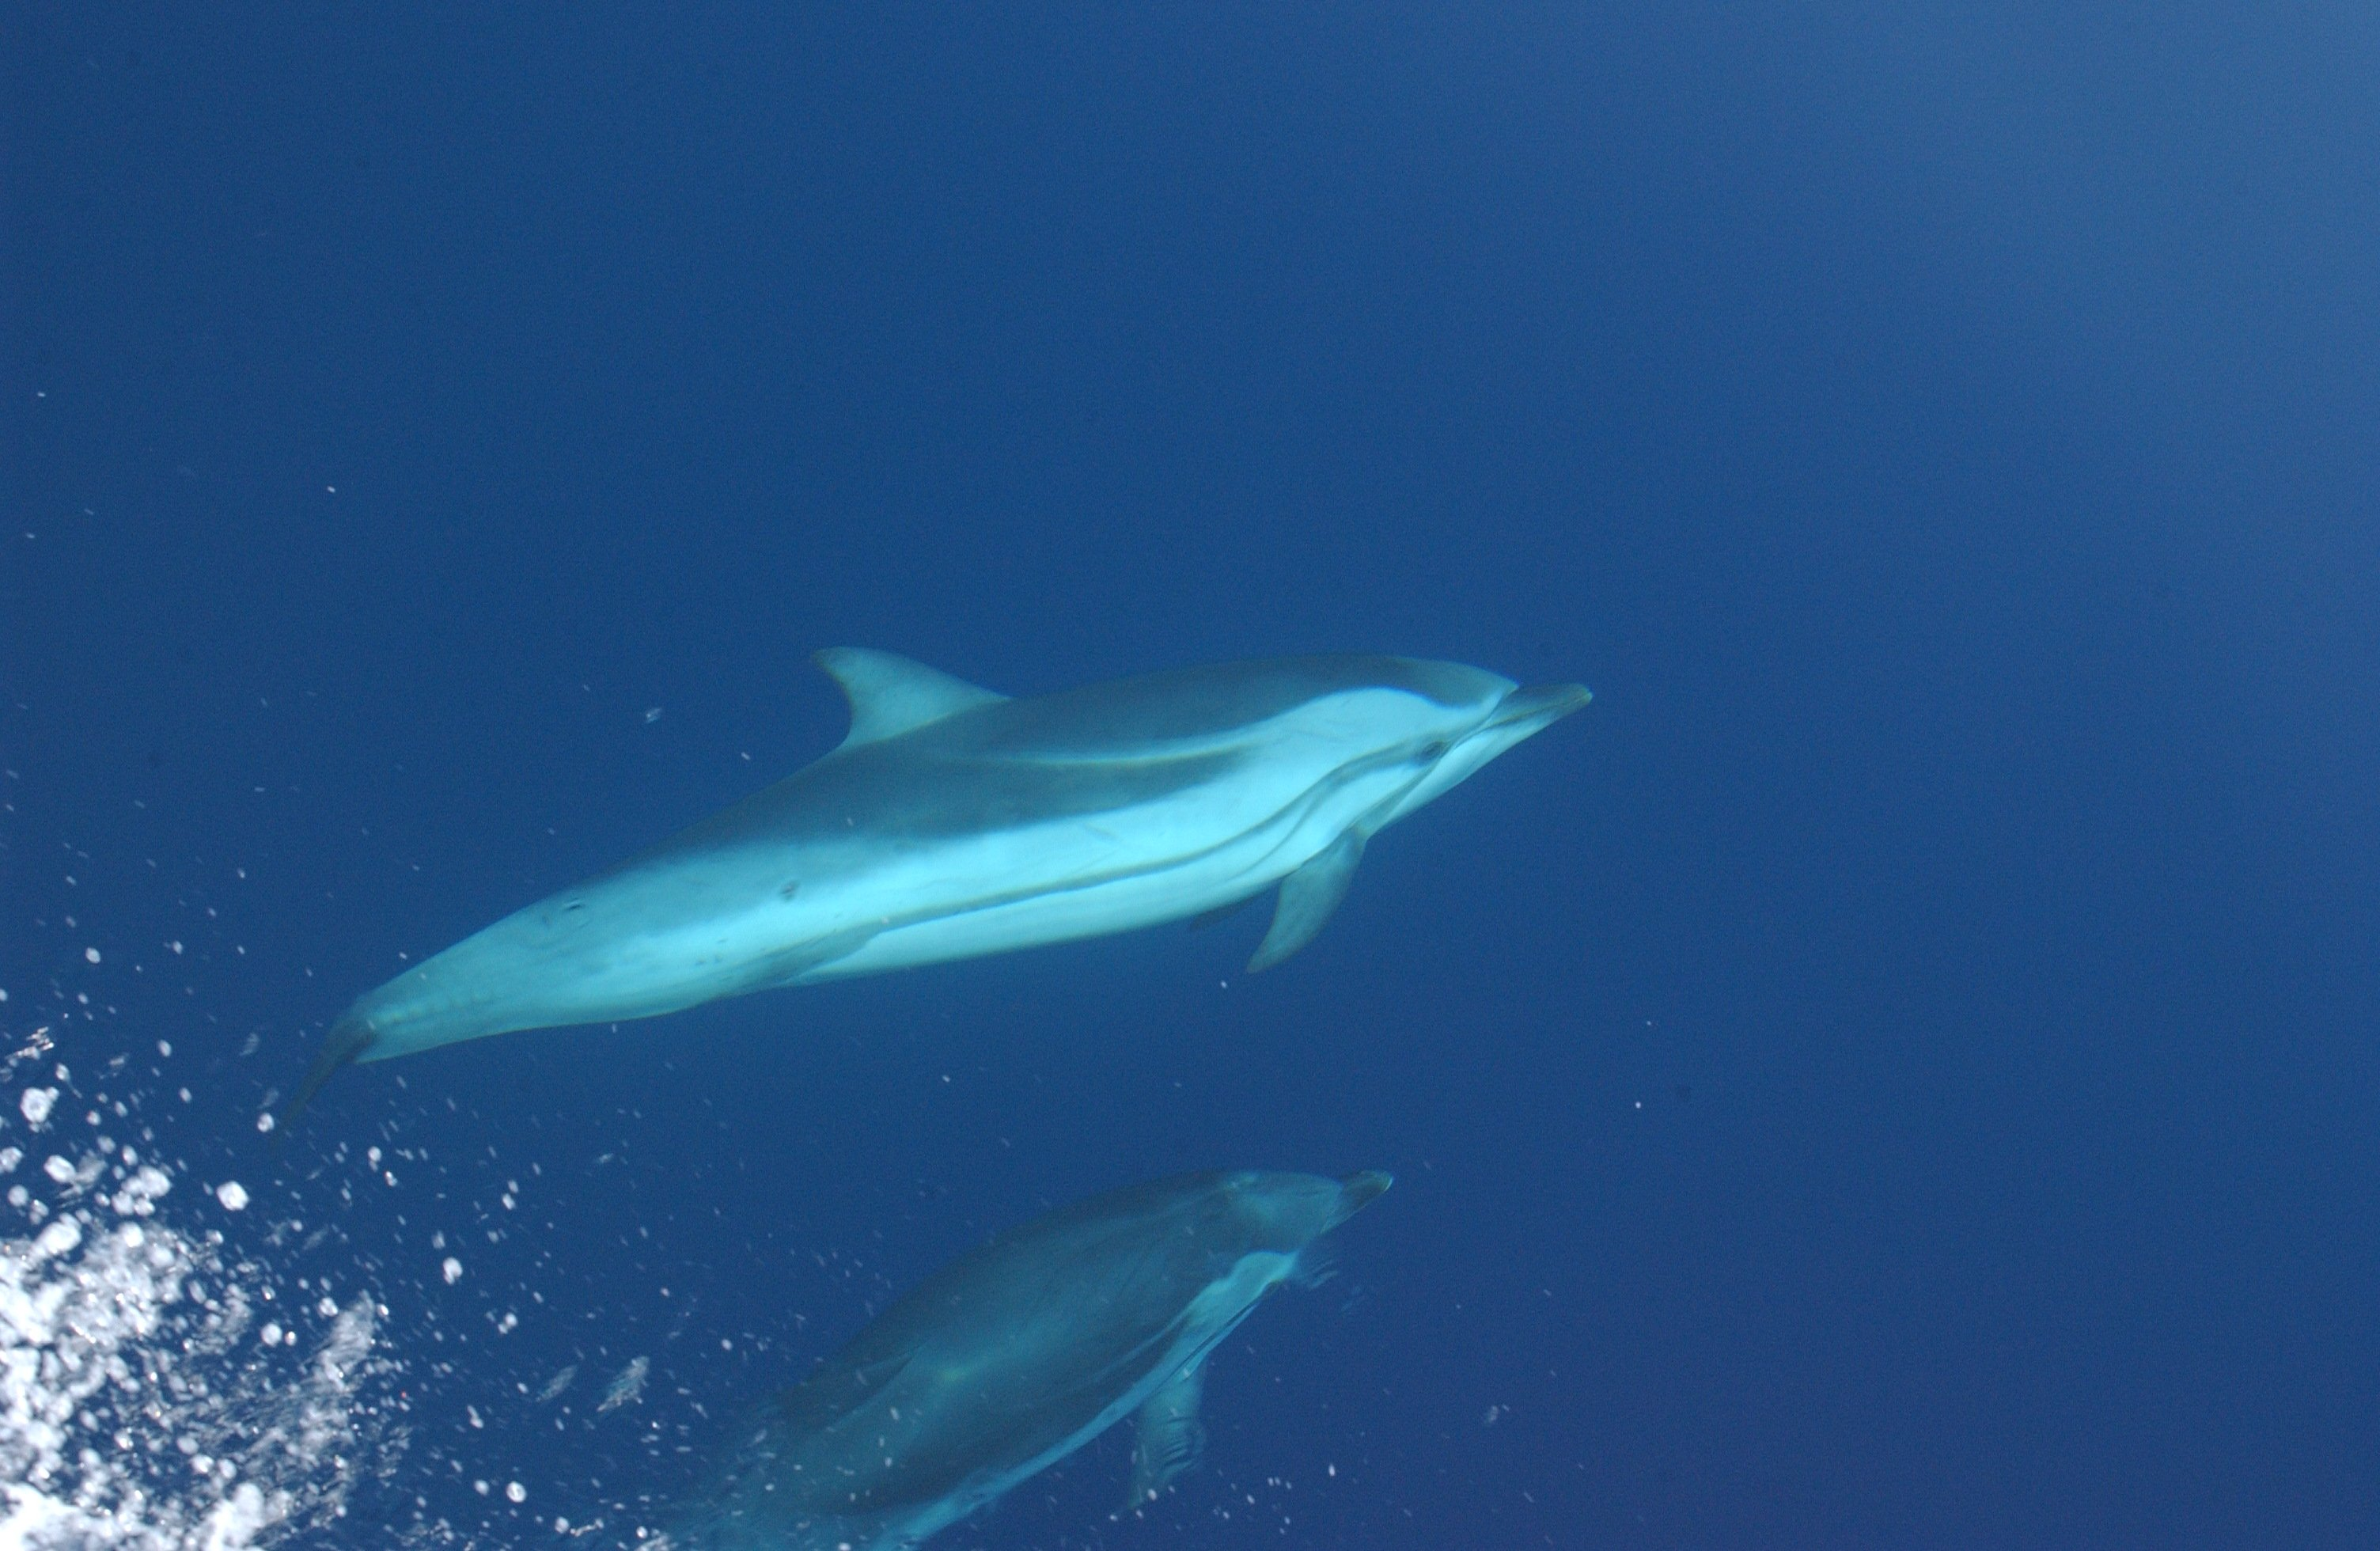dolphin: (210, 626, 1601, 1143), (609, 1159, 1412, 1546)
